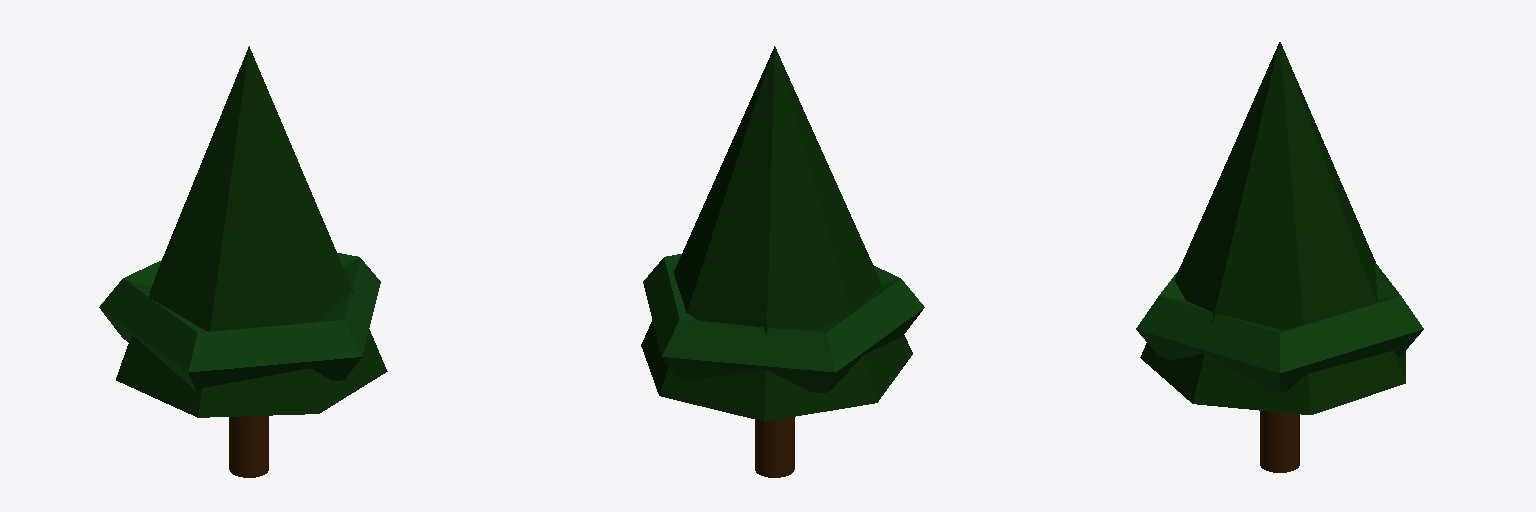
Rendered from tree.obj.
The picture shows the model from 3 angles: view 1: azimuth 30°, elevation 25°; view 2: azimuth 150°, elevation 25°; view 3: azimuth 270°, elevation 25°; orthographic projection.
Parts seen in each view (by area): view 1: Cone, Torus, Cylinder; view 2: Cone, Torus, Cylinder; view 3: Cone, Torus, Cylinder.
Boxes of the visible parts, <box> form: Cone: <box>116,46,387,417</box>; Torus: <box>99,253,380,391</box>; Cylinder: <box>229,416,268,477</box>; Cone: <box>641,46,912,421</box>; Torus: <box>643,254,924,392</box>; Cylinder: <box>755,417,794,477</box>; Cone: <box>1140,42,1405,414</box>; Torus: <box>1136,262,1423,392</box>; Cylinder: <box>1260,411,1299,472</box>.
Bounding box in the file's own units: 2.47 × 4.01 × 2.47.